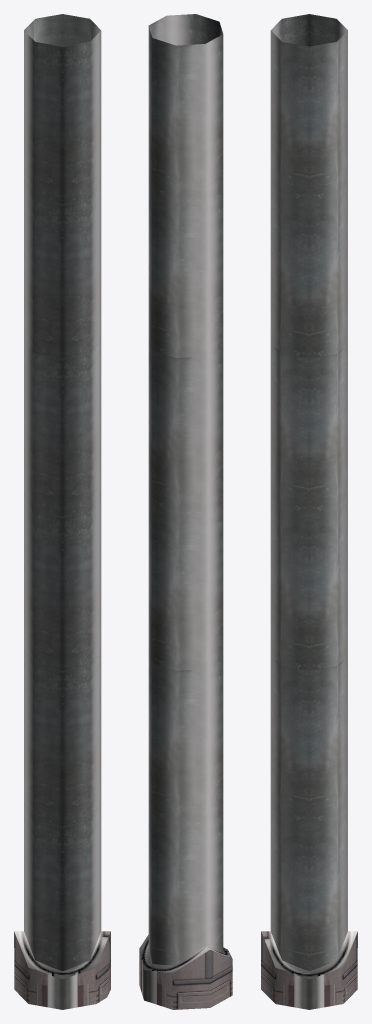
The model's file is Cor1_prop_piller_1.fbx.
3 renders of one model, left to right at view 1: azimuth 90°, elevation 25°; view 2: azimuth 210°, elevation 25°; view 3: azimuth 270°, elevation 25°, orthographic.
Visible parts, largest first — view 1: polymsh1384, cor1_prop_piller_1; view 2: polymsh1384, cor1_prop_piller_1; view 3: polymsh1384, cor1_prop_piller_1.
Boxes of the visible parts, bbox=[...] form: polymsh1384: bbox=[24, 14, 101, 971]; cor1_prop_piller_1: bbox=[14, 931, 110, 1009]; polymsh1384: bbox=[148, 14, 223, 964]; cor1_prop_piller_1: bbox=[139, 935, 232, 1009]; polymsh1384: bbox=[270, 14, 347, 971]; cor1_prop_piller_1: bbox=[261, 931, 357, 1009].
Size of what is drawn, in the model's own units: 3 by 32.87 by 3.01.
